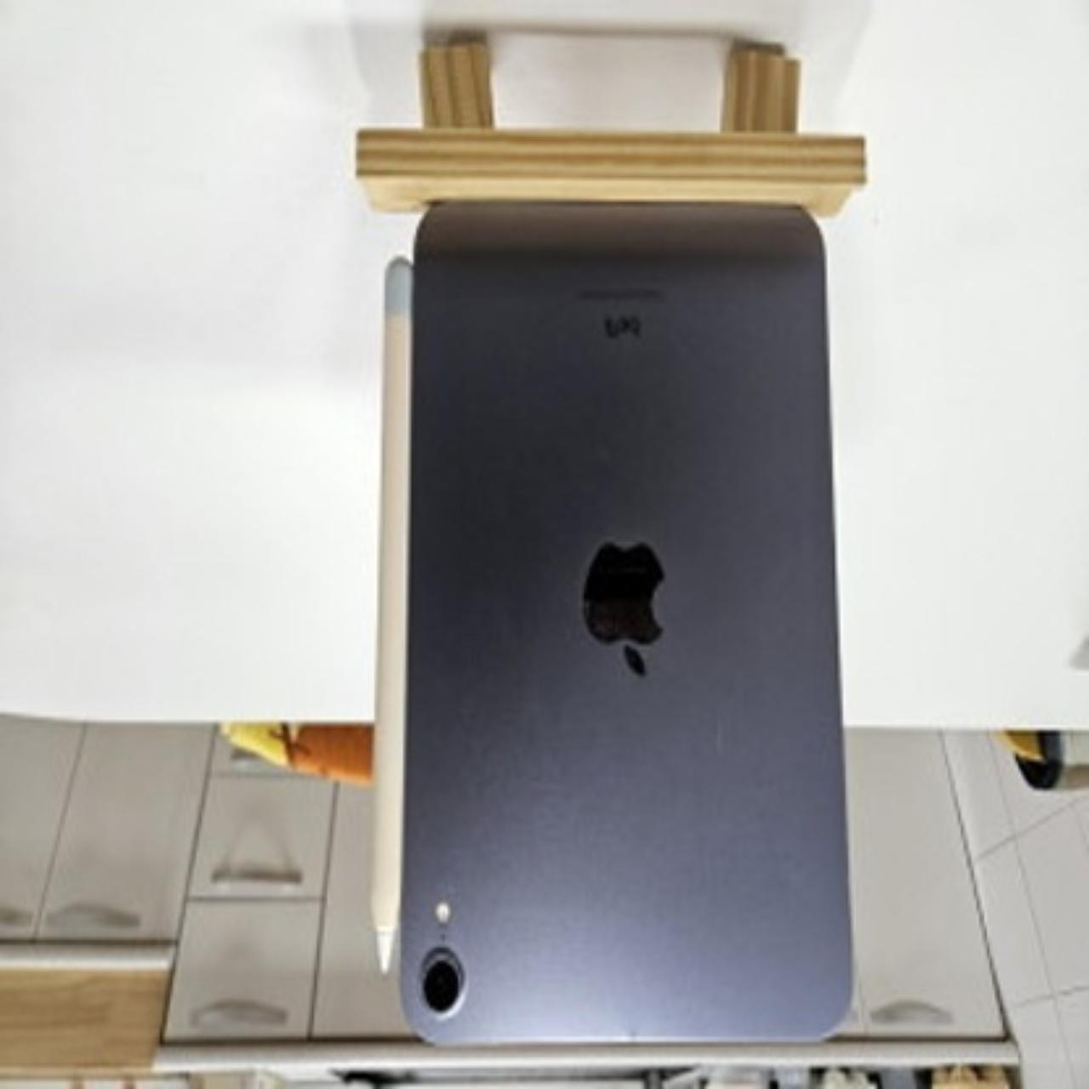Tablet_PC: (351, 205, 866, 1058)
